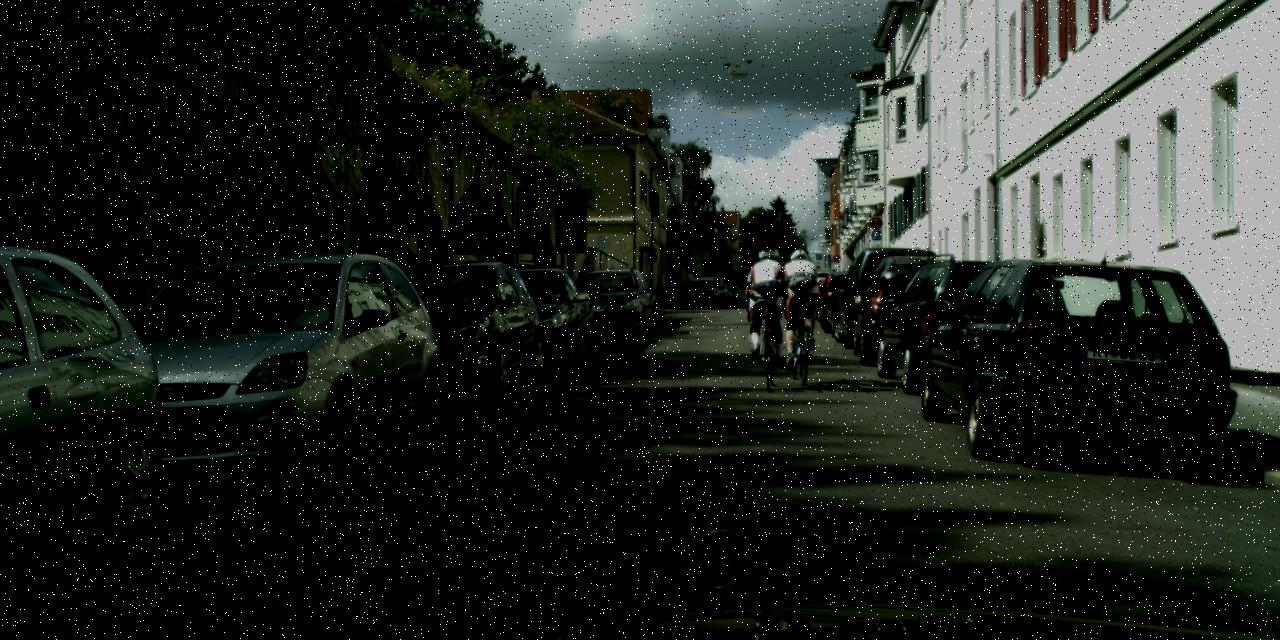ped: (744, 245, 790, 358), (780, 247, 821, 352)
